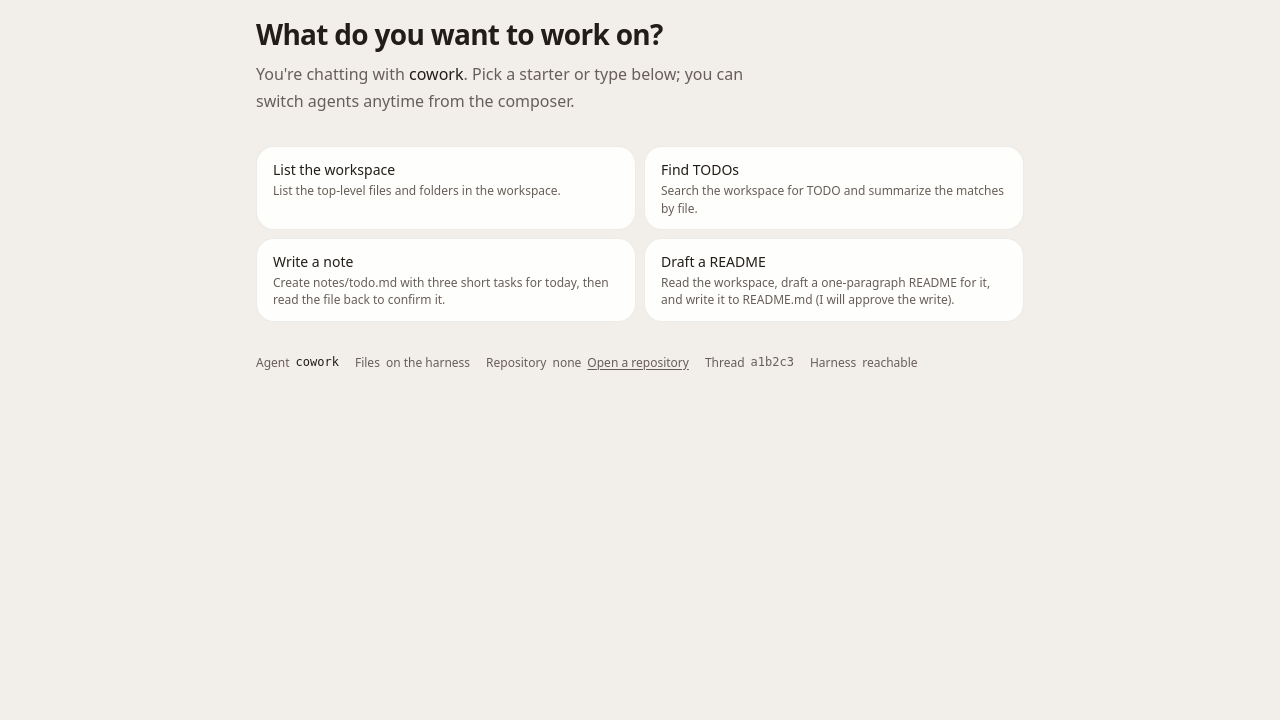
Test: choosing where the thread runs › opens a repository for this thread before its first message
Expected: the text "Repository" is shown, [486, 354, 546, 371]
Click the button "Open a repository".
click(638, 362)  # box [587, 354, 689, 371]
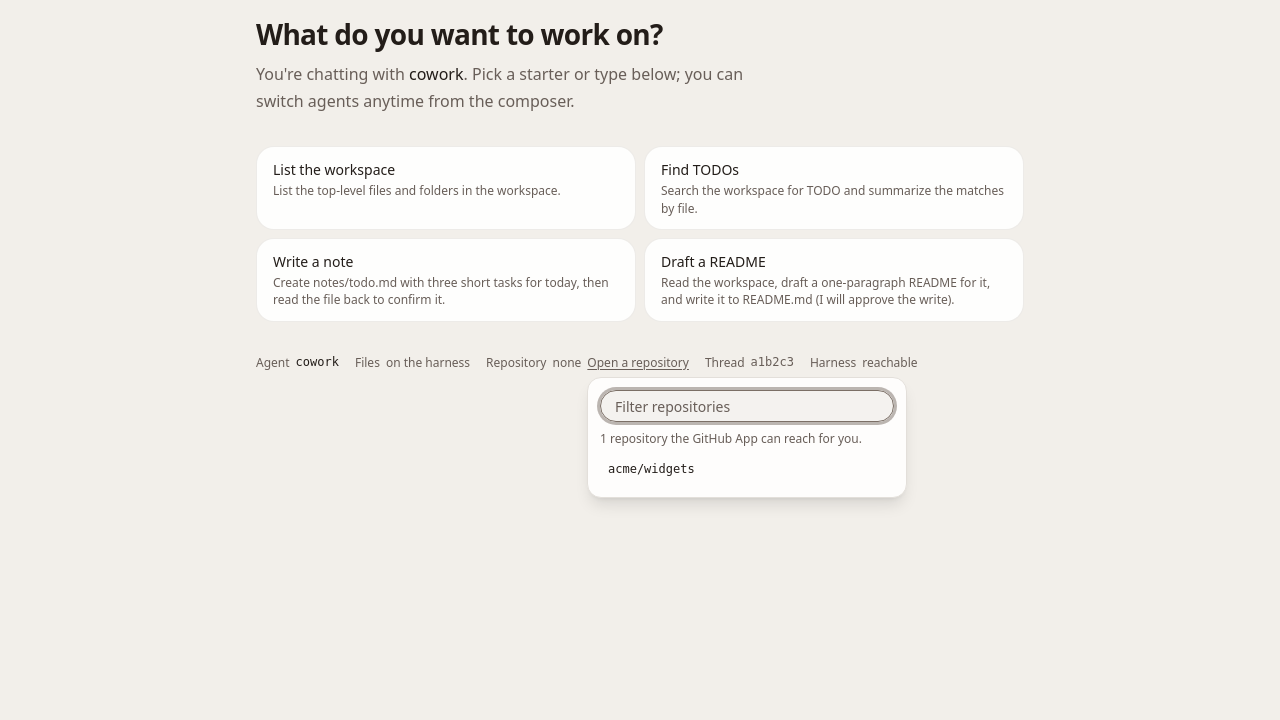
Click the button "acme/widgets".
click(651, 469)  # box [600, 455, 894, 485]
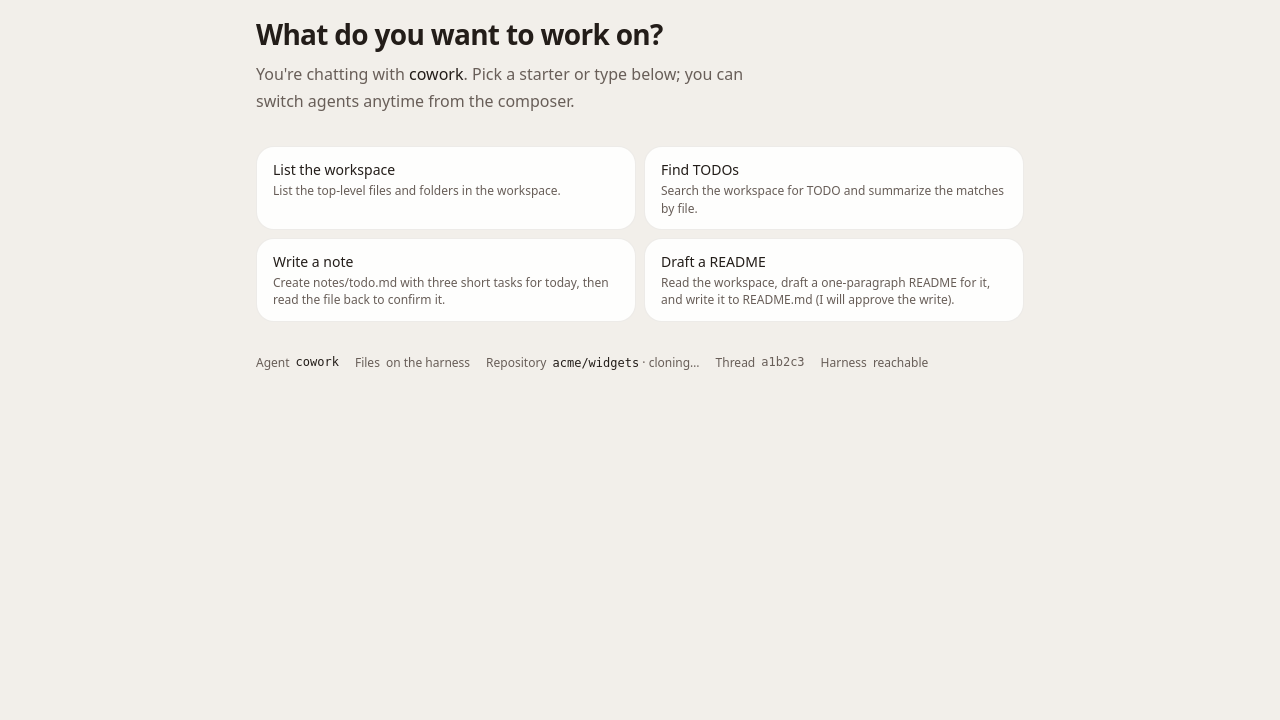
Expected: the text "acme/widgets · cloning…" is shown, [552, 354, 700, 372]
